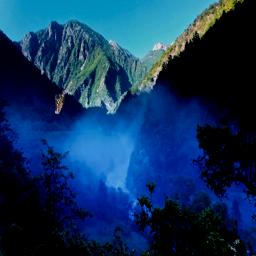Cuckoo: (55, 90, 65, 114)
